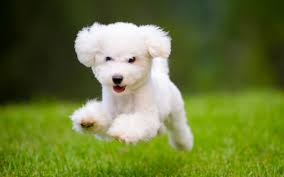dog: (67, 13, 191, 156)
